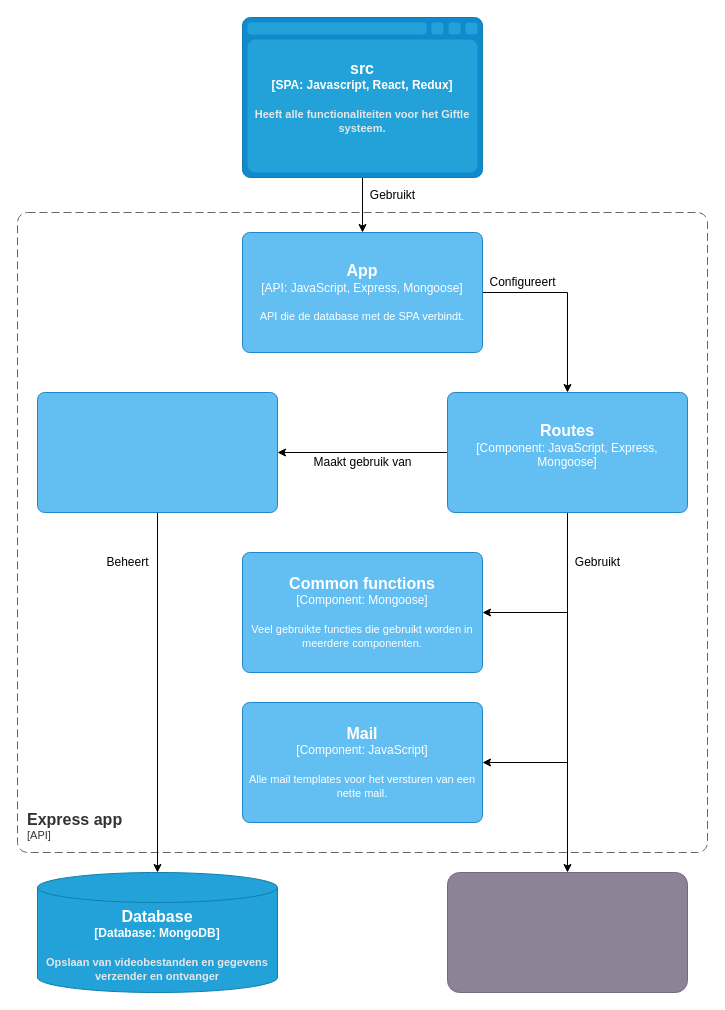
The diagram is 725 pixels wide and 1010 high, and some of its shapes have lost their labels. The centre of each missing label's shape, as x and y in pixels:
Google SMTP [Software System] SMTP service voor het mailen: pixel 567 932
Model [Component: Mongoose]: pixel 157 452
